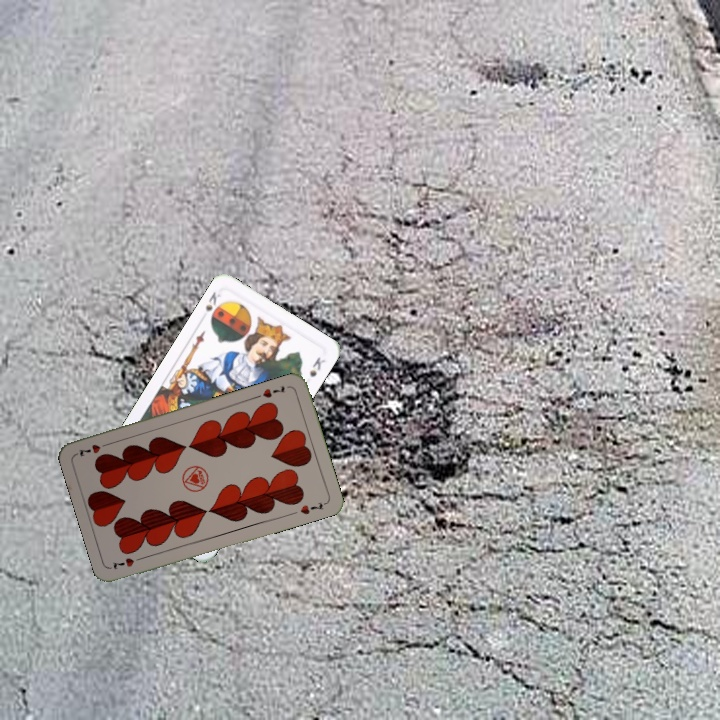H7: (108, 553, 147, 572), (259, 382, 288, 400)
SK: (201, 287, 224, 314)
